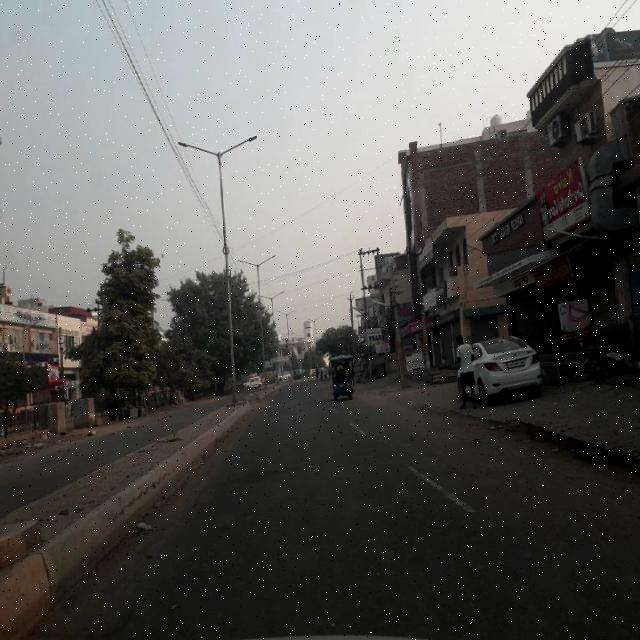D44: (406, 463, 484, 517)
